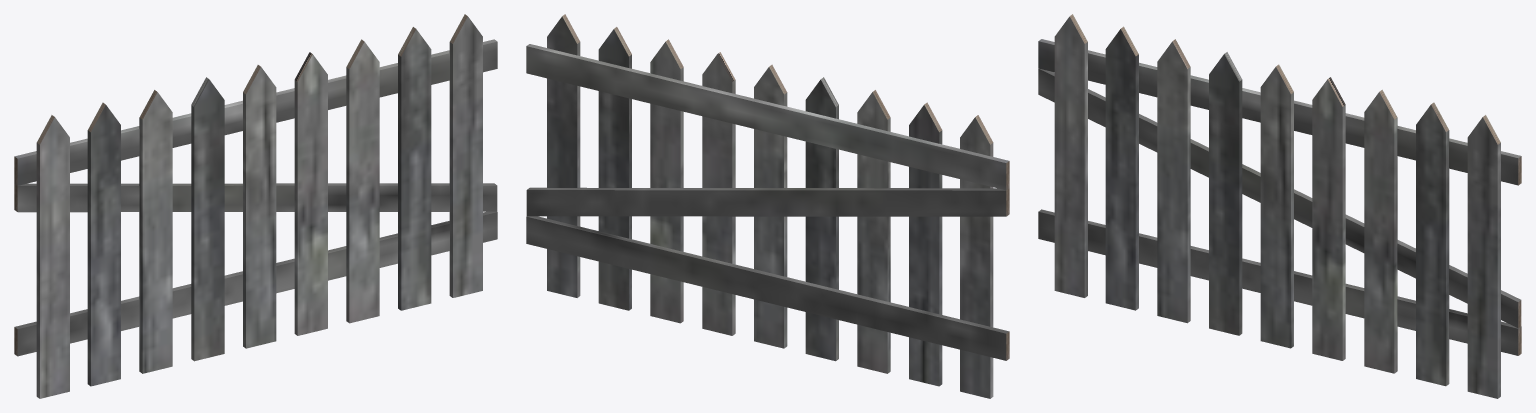
File: fence-rail.lod1.glb
The picture shows the model from 3 angles, left to right: view 1: azimuth 30°, elevation 25°; view 2: azimuth 150°, elevation 25°; view 3: azimuth 330°, elevation 25°; orthographic projection.
Visible parts, largest first — view 1: FenceStyle1Long_Gray_T_0; view 2: FenceStyle1Long_Gray_T_0; view 3: FenceStyle1Long_Gray_T_0.
Boxes of the visible parts, x1,y1,x2,y2 form: FenceStyle1Long_Gray_T_0: (14,14,497,398); FenceStyle1Long_Gray_T_0: (526,14,1009,398); FenceStyle1Long_Gray_T_0: (1038,14,1521,398).
Size of the model in its own units: 2.17 by 1.2 by 0.0487.
1 material, 1 textured.
